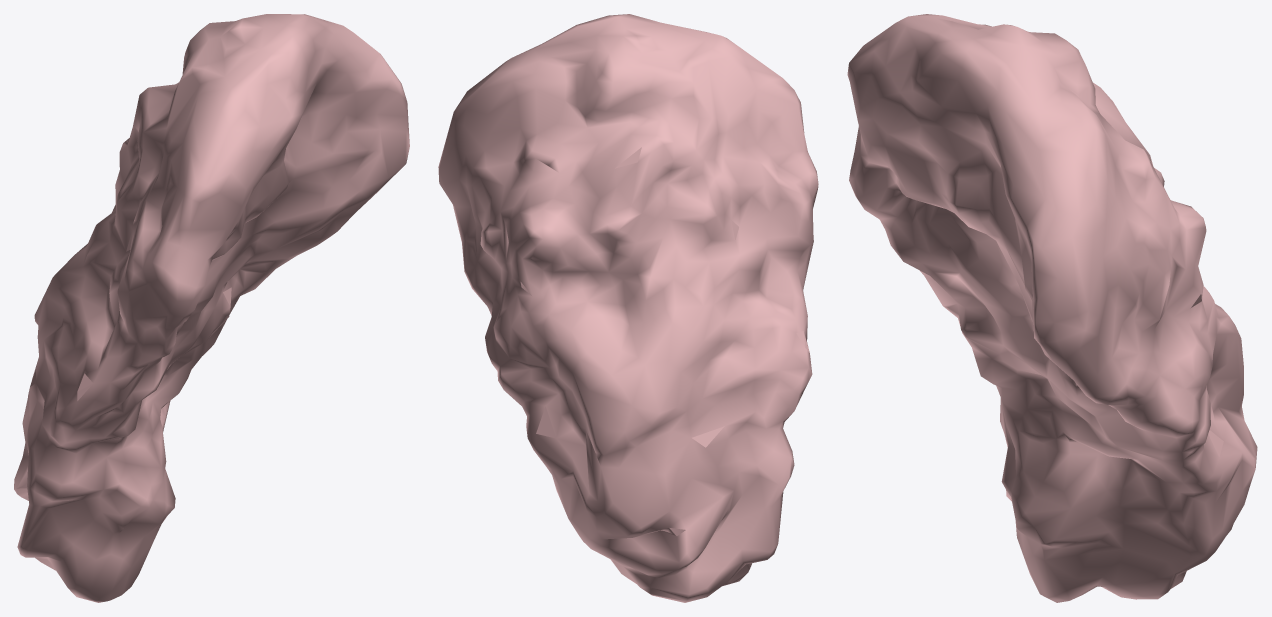
File: 3d-vh-m-palatine-tonsil-r-20.glb
3 views of the same model, side by side, from view 1: azimuth 30°, elevation 25°; view 2: azimuth 150°, elevation 25°; view 3: azimuth 270°, elevation 25° (orthographic). The views are drawn at different scales.
Parts seen in each view (by area): view 1: VH_M_palatine_tonsil_R; view 2: VH_M_palatine_tonsil_R; view 3: VH_M_palatine_tonsil_R.
Boxes of the visible parts, x1,y1,x2,y2 form: VH_M_palatine_tonsil_R: [14, 14, 409, 602]; VH_M_palatine_tonsil_R: [438, 14, 818, 602]; VH_M_palatine_tonsil_R: [847, 14, 1257, 602].
Size of the model in its own units: 0.0168 by 0.0239 by 0.0139.
